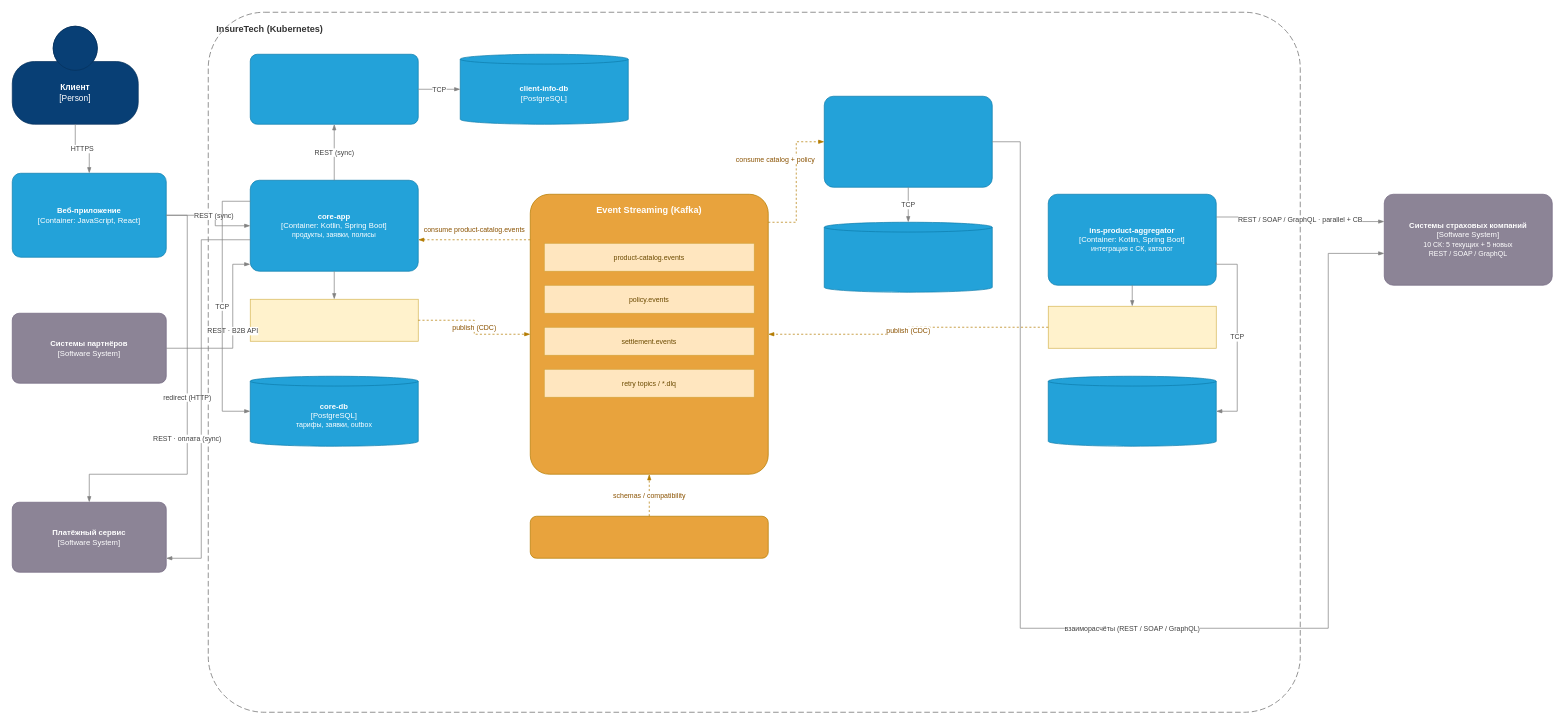
Image size: 1565x725. Some labels were removed from this diagram. Here are the shapes that lost their labels. From the top down, the centre of each, then its label:
the point at 334,89: client-info [Container: Kotlin, Spring Boot]
the point at 908,141: ins-comp-settlement [Container: Kotlin, Spring Boot] реестр и взаиморасчёты
the point at 908,257: ins-comp-settlement-db [PostgreSQL]
the point at 334,320: Outbox (в core-db) policy.events
the point at 1132,327: Outbox (в aggregator-db) product-catalog.events
the point at 1132,411: aggregator-db [PostgreSQL] кэш каталога, outbox
the point at 649,537: Schema Registry Avro / Protobuf
